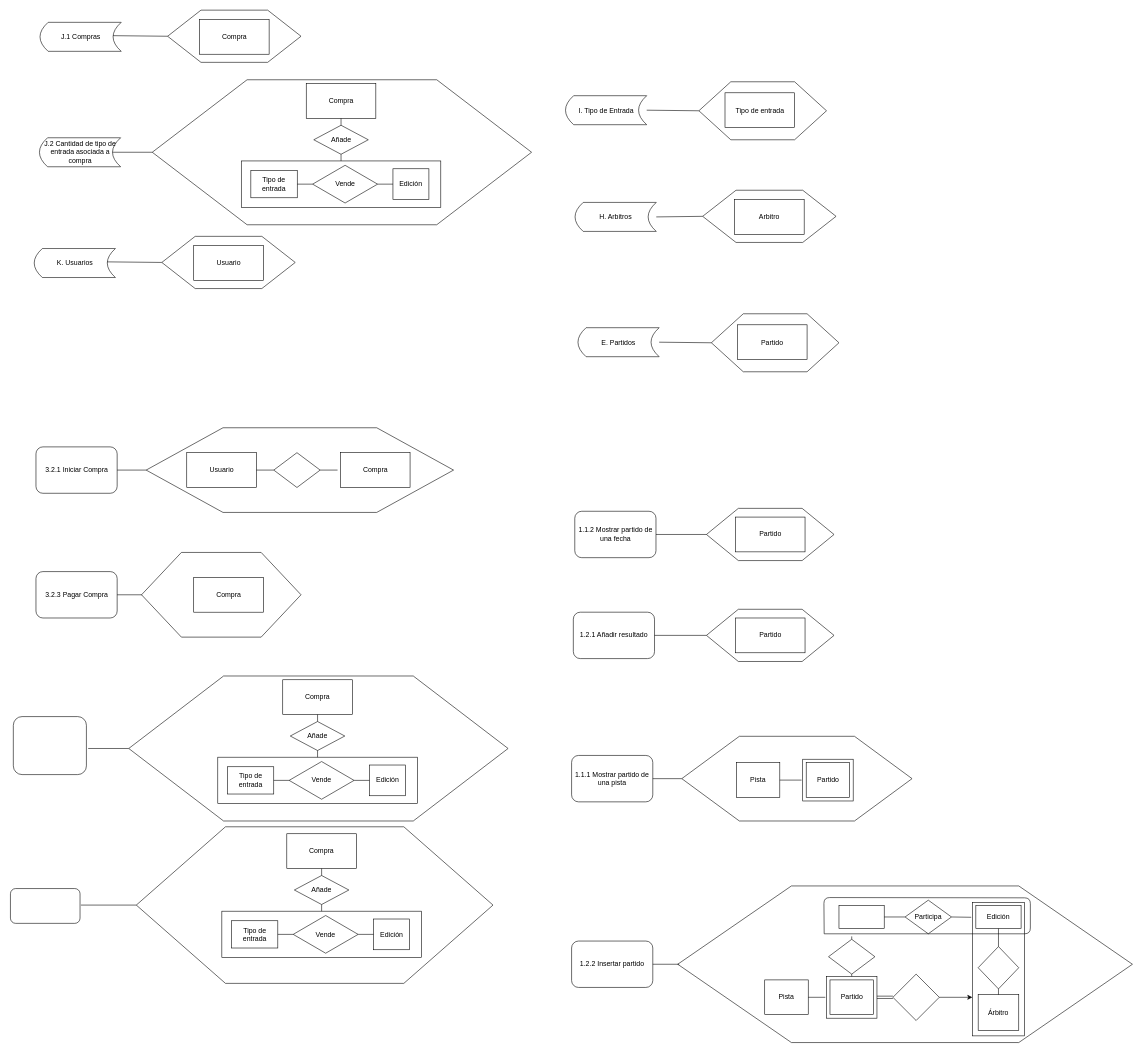
The diagram is 1143 pixels wide and 1053 high, and some of its shapes have lost their labels. Each missing label, with the centre of its shape:
"3.1 Consulta dinero obtenido" goes at pixel 45 905.
"3.2.2 Añadir ítem a la compra" goes at pixel 49 745.
"Arbitra" goes at pixel 915 997.
"Compiten" goes at pixel 851 956.
"Oferta" goes at pixel 998 967.
"Realiza" goes at pixel 296 469.
"Tenistas" goes at pixel 861 917.
